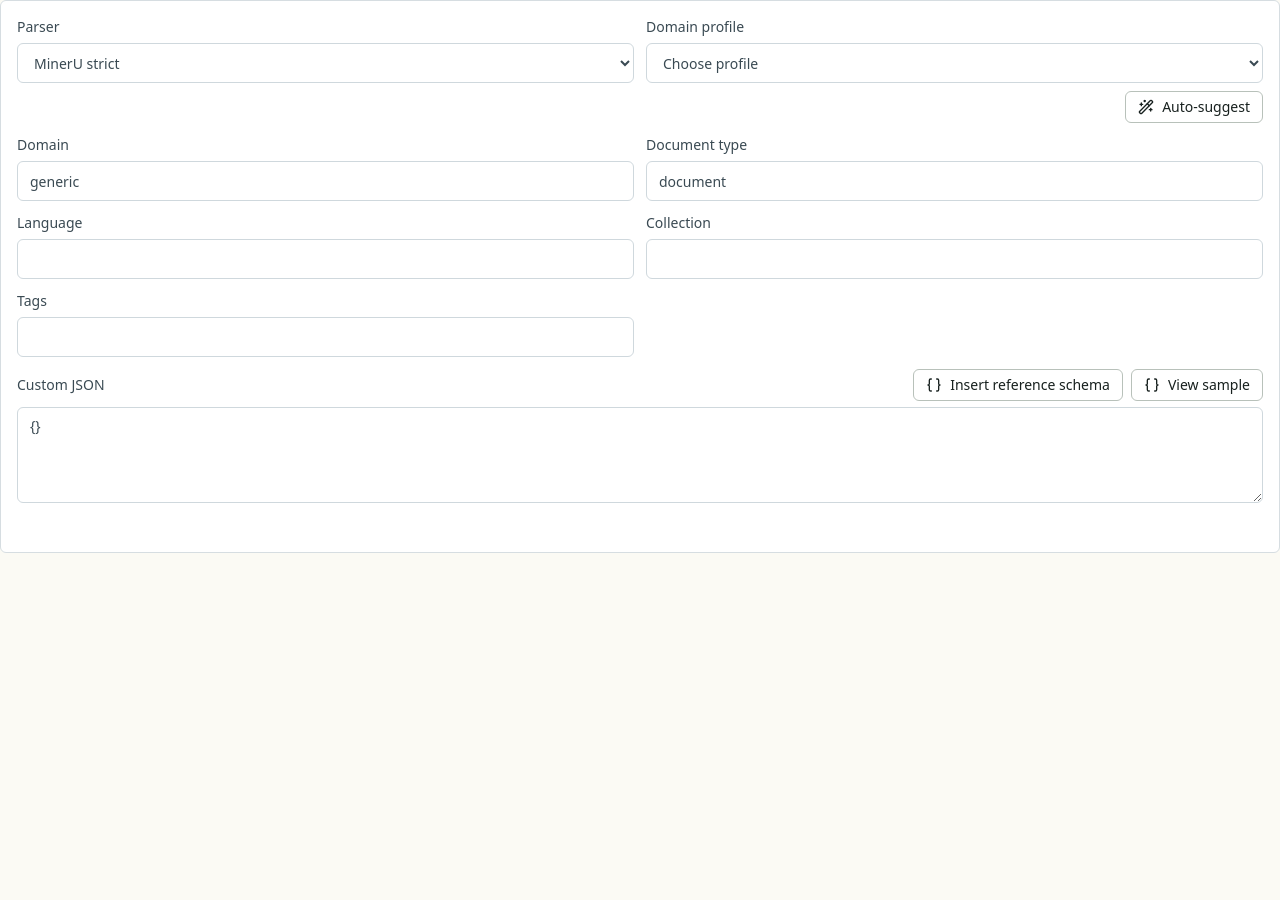
Test: DomainMetadataPanel › rejects an autosuggested scalar field and restores the prior value
Click the button "Auto-suggest". click: (1194, 107)
box: [1125, 91, 1263, 123]
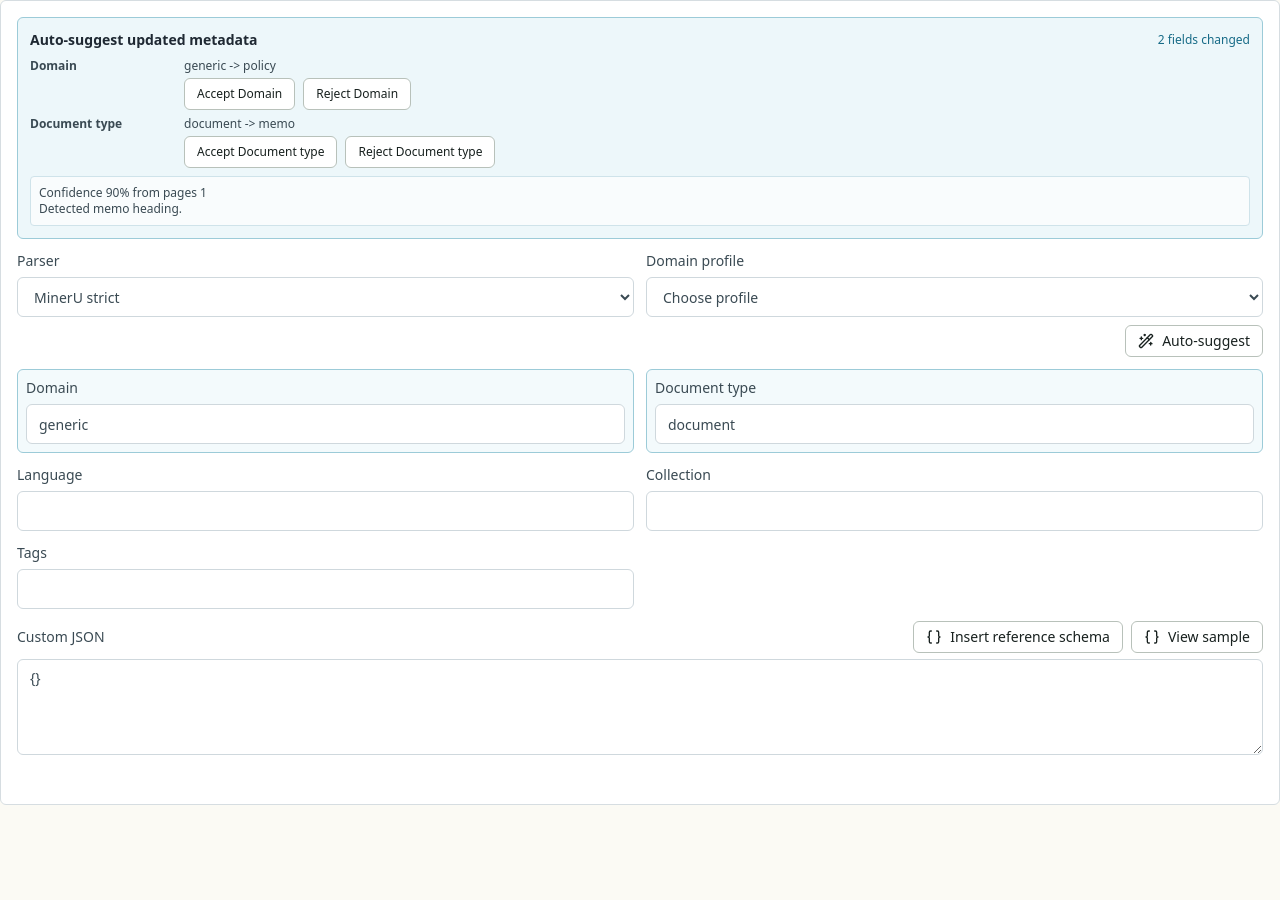
Check: the text "Auto-suggest updated metadata" is shown, box [30, 30, 258, 50]
Click the button "Reject Domain". click: (357, 94)
box: [303, 78, 411, 110]
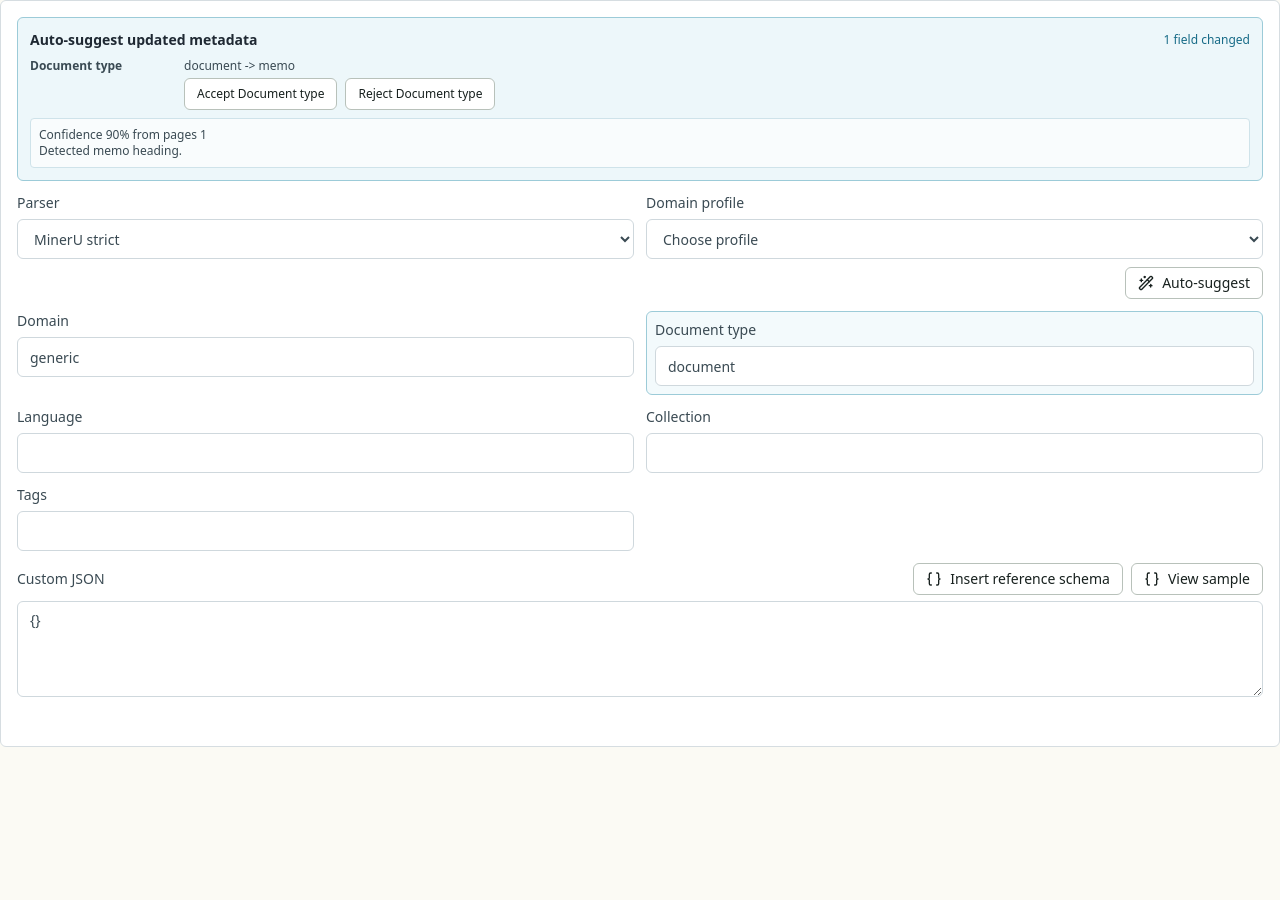
Check: the text "generic -> policy" is gone
Check: the text "1 field changed" is shown, box [1164, 32, 1250, 48]
